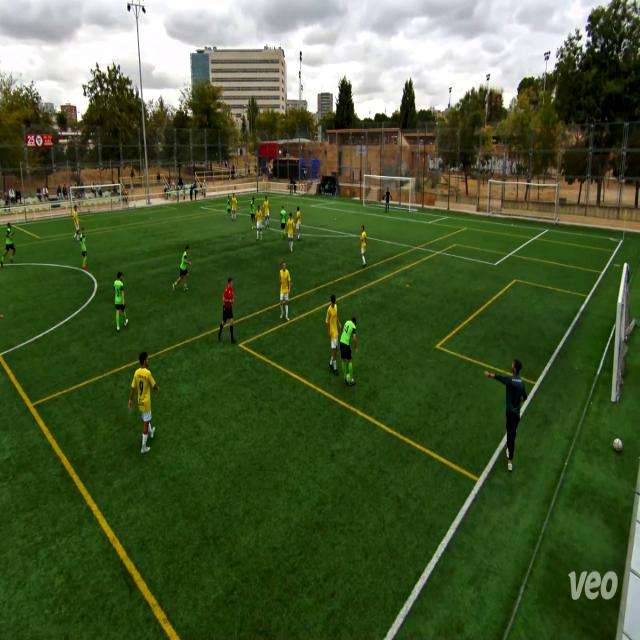bigarea_bottom_inner: (490, 254, 501, 276)
bigarea_bottom_outter: (545, 226, 550, 235)
bigarea_top_inner: (200, 204, 203, 212)
bigarea_top_outter: (282, 194, 287, 199)
bottom_arc_area_intersection: (354, 232, 361, 241)
corner: (610, 229, 636, 251), (260, 191, 263, 196)
smallarea_bottom_inner: (426, 219, 432, 226)
smallarea_bottom_outter: (446, 214, 451, 222)
smallarea_top_inner: (309, 203, 314, 210)
smallarea_top_outter: (332, 199, 337, 206)
